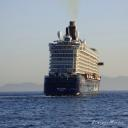cruises: (44, 21, 105, 99)
